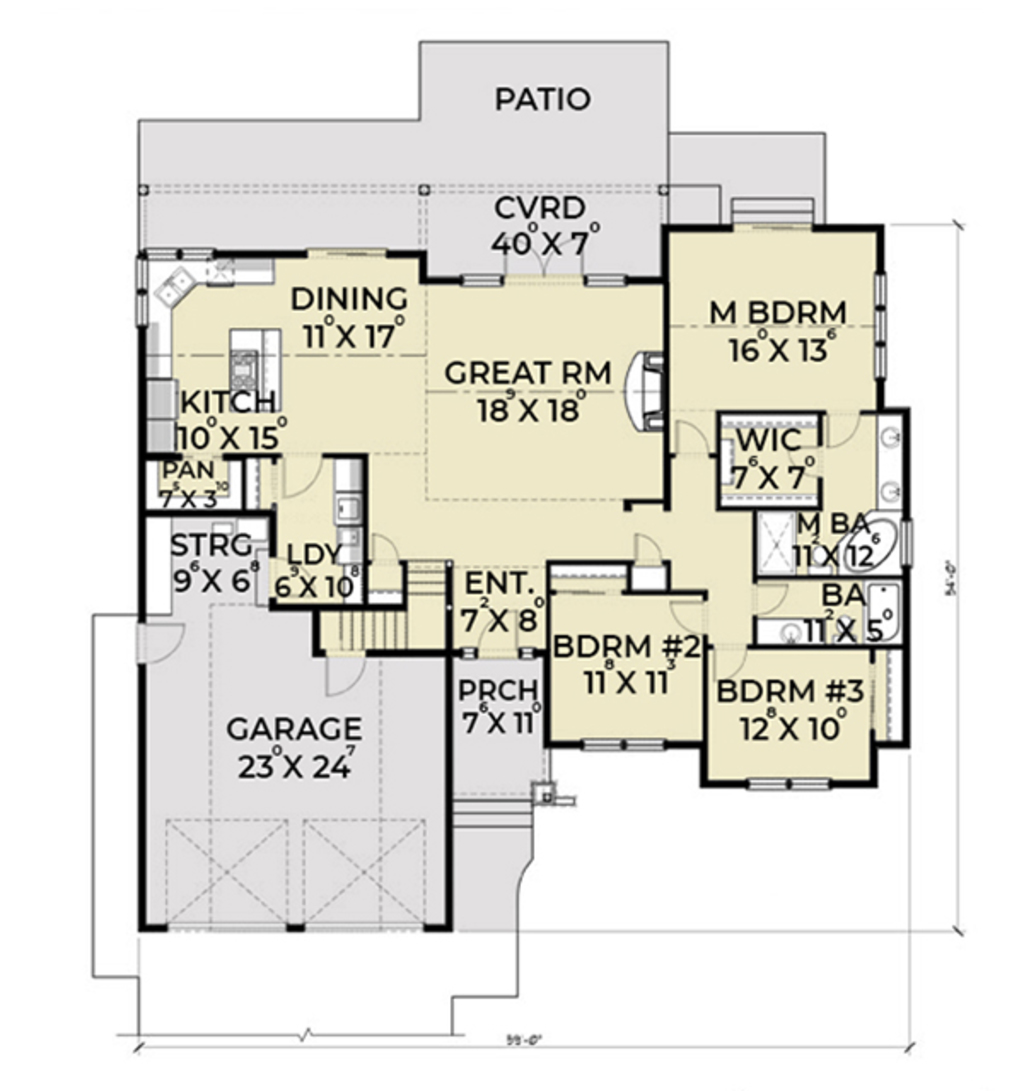door: (275, 450, 326, 504), (316, 651, 368, 697), (138, 621, 188, 667), (702, 645, 757, 681), (823, 407, 865, 449), (671, 418, 715, 454), (751, 581, 789, 615), (631, 531, 667, 565), (668, 597, 701, 634)
small_sink: (876, 408, 909, 514)
stairs: (315, 565, 450, 654)
twin_sink: (158, 271, 198, 311)
windows: (867, 270, 893, 378), (739, 773, 831, 794), (129, 257, 153, 332), (571, 739, 668, 753), (145, 245, 219, 260)
